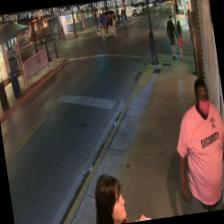person: (166, 75, 224, 214), (88, 167, 143, 224)
